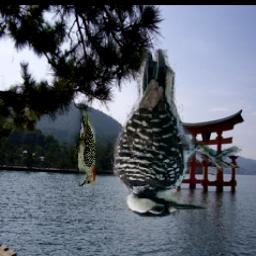Woodpecker: (108, 49, 244, 219), (70, 107, 95, 187)
